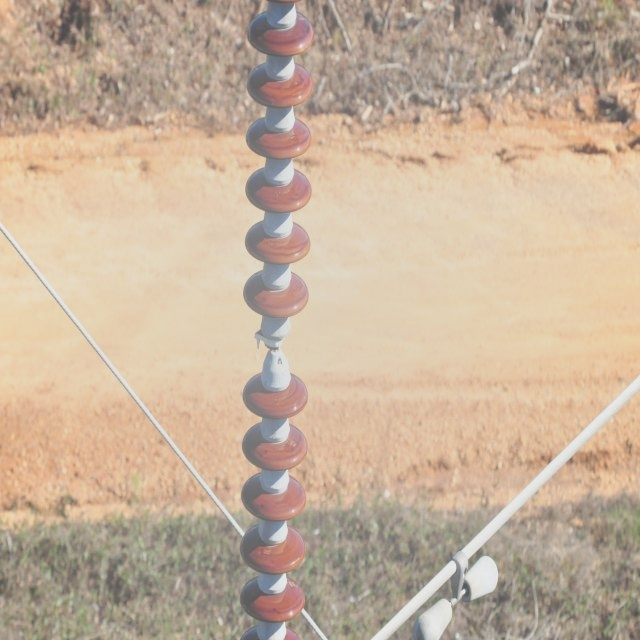broken: (252, 327, 284, 351)
insulator: (240, 9, 313, 638)
